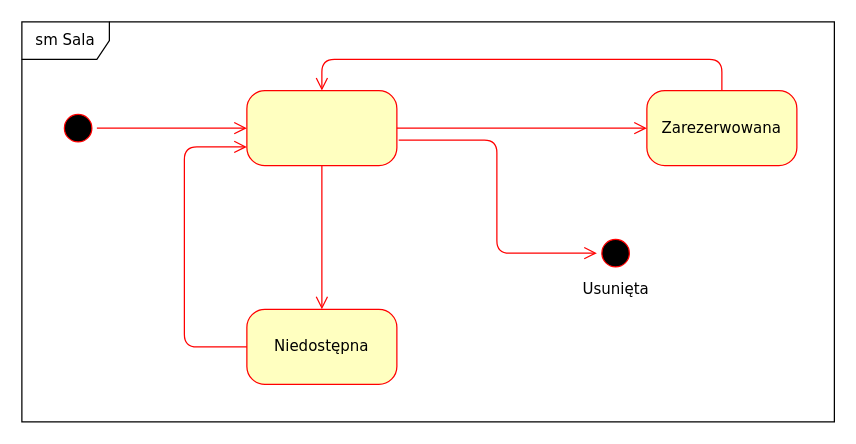
The diagram is 856 pixels wide and 444 high, and some of its shapes have lost their labels. Each missing label, with the centre of its shape:
Dostępna: the point at 321,127
Nowa sala: the point at 77,127
